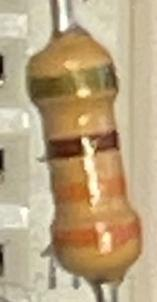Brown: (44, 130, 119, 160)
Orange: (51, 218, 142, 255), (53, 174, 128, 206)
Side-Gold: (28, 64, 119, 100)
